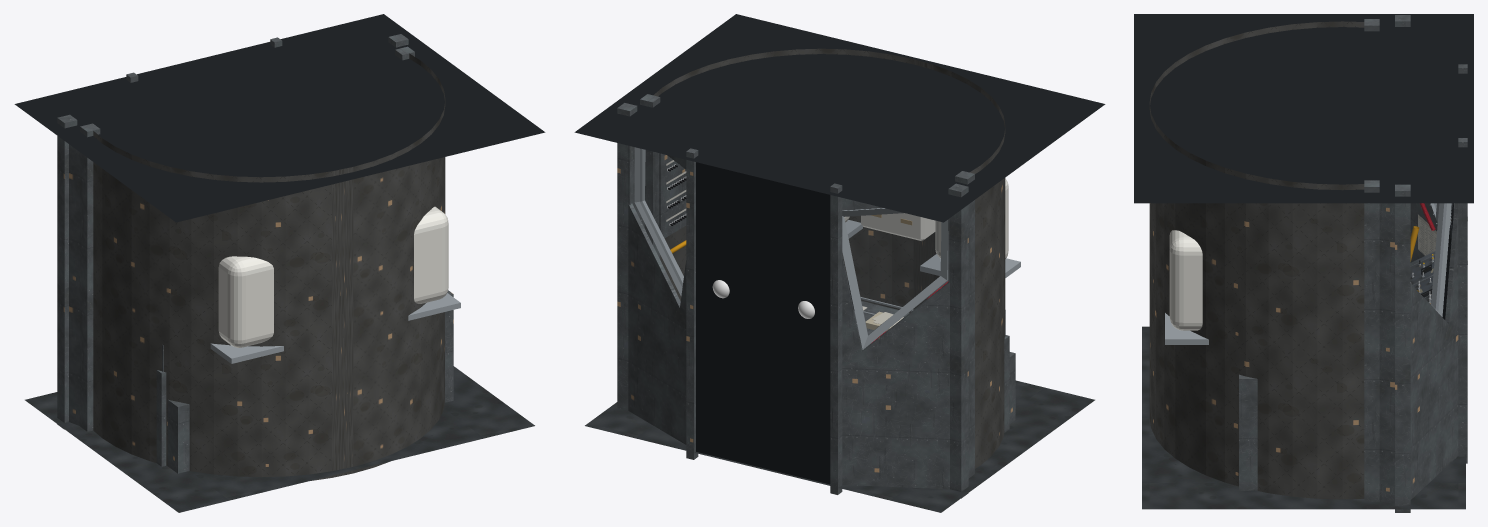
Rendered from lm_cockpit.glb.
3 views of the same model, side by side, from view 1: azimuth 30°, elevation 25°; view 2: azimuth 150°, elevation 25°; view 3: azimuth 270°, elevation 25° (orthographic). The views are drawn at different scales.
Visible parts, largest first — view 1: cockpit_blanket, cockpit_dark, cockpit_wall, cockpit_floor, cockpit_beta, cockpit_frame; view 2: cockpit_dark, cockpit_wall, cockpit_blanket, cockpit_floor, cockpit_glass_L, cockpit_frame, cockpit_glass_R, cockpit_beta; view 3: cockpit_dark, cockpit_blanket, cockpit_wall, cockpit_floor, cockpit_beta, cockpit_glass_R, cockpit_frame, cockpit_face_p3, cockpit_card.
Boxes of the visible parts, box(x1,y1,x2,y2) form: cockpit_blanket: box(93, 53, 445, 480); cockpit_dark: box(14, 14, 545, 222); cockpit_wall: box(57, 34, 453, 473); cockpit_floor: box(25, 366, 534, 512); cockpit_beta: box(218, 206, 448, 347); cockpit_frame: box(210, 293, 460, 363); cockpit_dark: box(574, 14, 1105, 484); cockpit_wall: box(617, 94, 1015, 498); cockpit_blanket: box(653, 48, 1005, 468); cockpit_floor: box(585, 380, 1094, 512); cockpit_glass_L: box(845, 213, 940, 334); cockpit_frame: box(634, 147, 1020, 349); cockpit_glass_R: box(640, 149, 685, 285); cockpit_beta: box(844, 178, 1008, 258); cockpit_dark: box(1134, 14, 1473, 297); cockpit_blanket: box(1149, 21, 1364, 499); cockpit_wall: box(1239, 15, 1467, 512); cockpit_floor: box(1142, 326, 1465, 509); cockpit_beta: box(1169, 230, 1202, 330); cockpit_glass_R: box(1411, 204, 1446, 309); cockpit_frame: box(1165, 203, 1451, 344); cockpit_face_p3: box(1410, 251, 1435, 304); cockpit_card: box(1418, 214, 1436, 255).
Size of the model in its own units: 2.9 by 2.3 by 2.2.
Materials: 48 (7 with a texture image).
